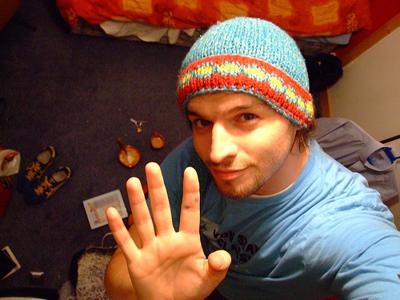person: (103, 16, 400, 300)
